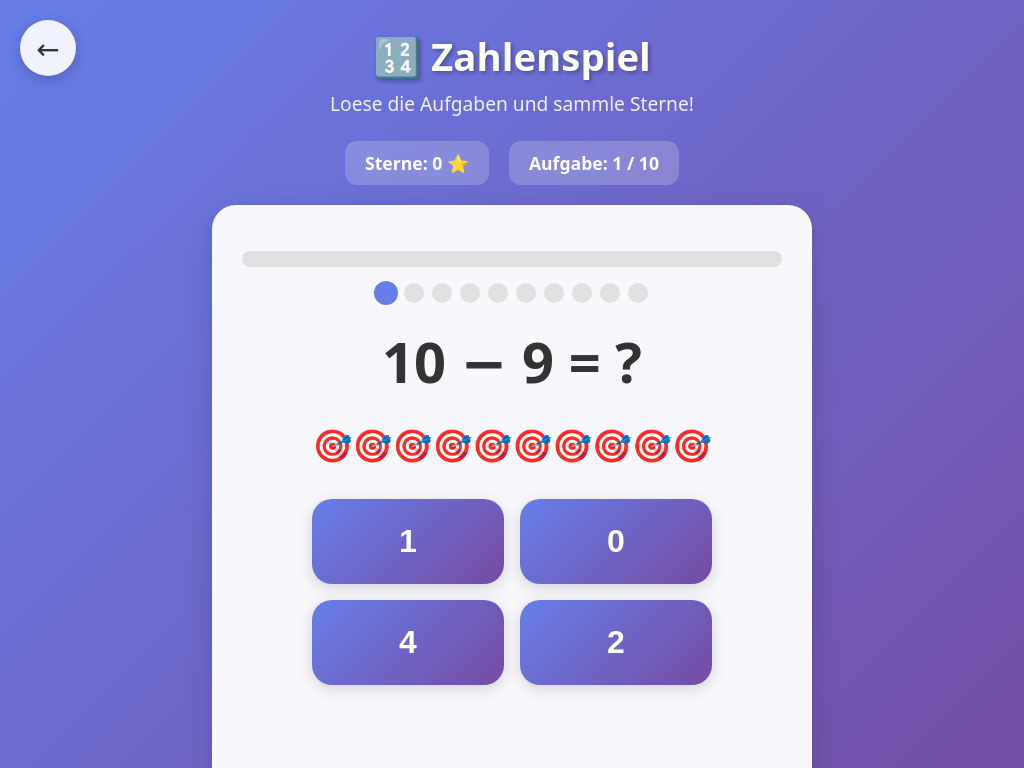
Zahlenspiel component › shows wrong feedback when clicking incorrect answer
The width and height of the screenshot is (1024, 768).
Click the button with class "answer-btn" showing "0" at (616,542), box [520, 499, 712, 584]
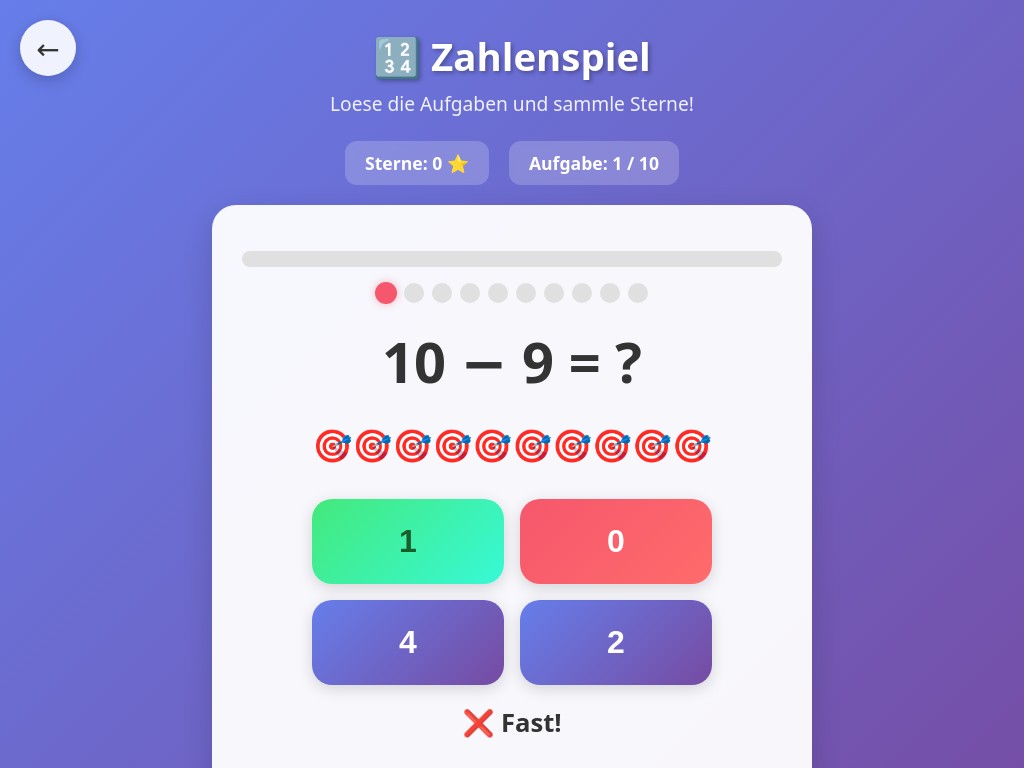
Now the text with class "feedback" reads "❌ Fast!", box [462, 705, 562, 740]
